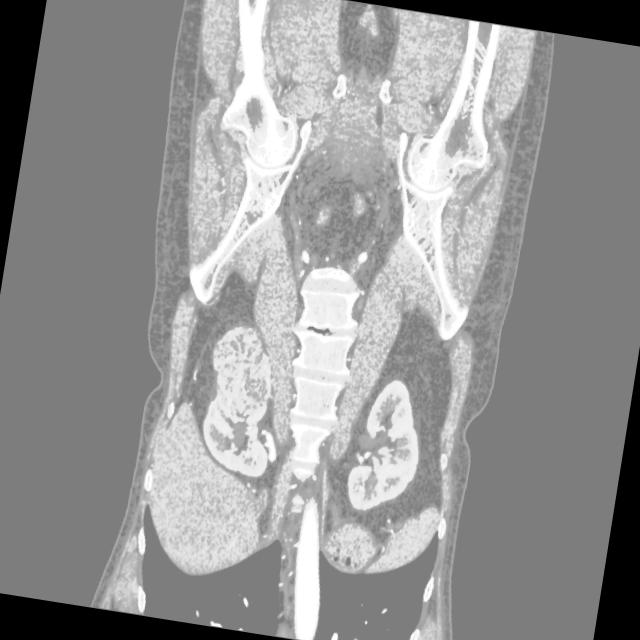TUMOR: (176, 318, 505, 511)
